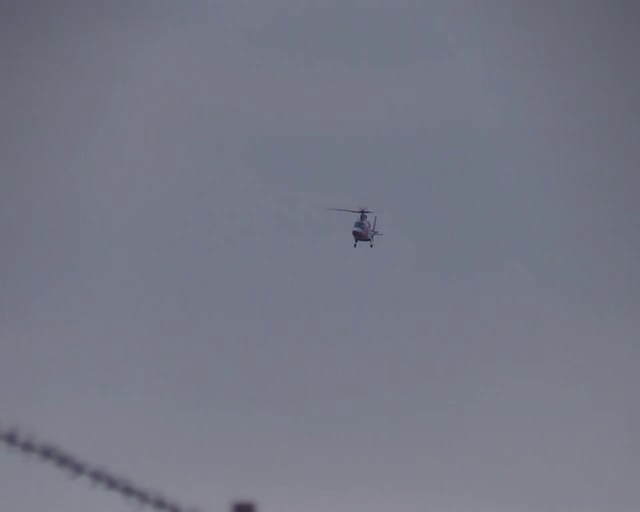HELICOPTER: (325, 206, 382, 249)
